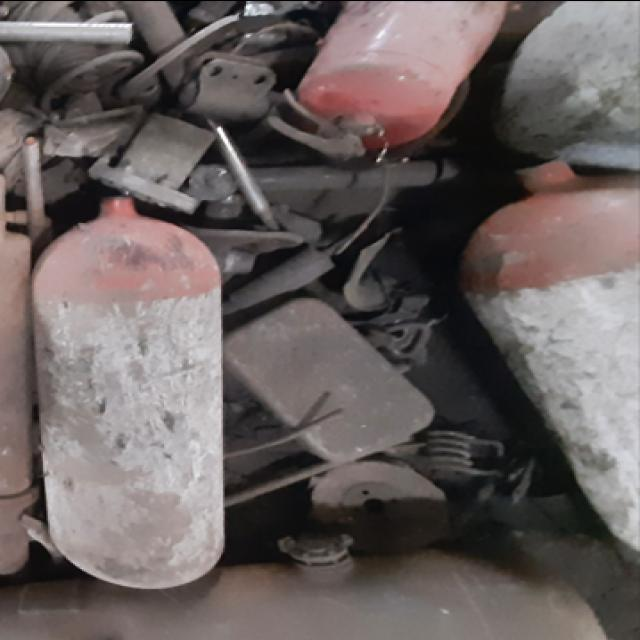cylinder: (31, 195, 224, 590)
